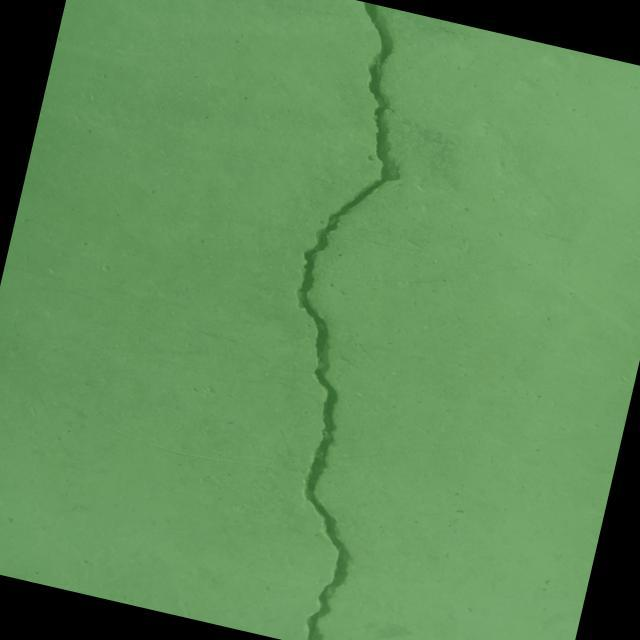crack: (217, 1, 476, 640)
